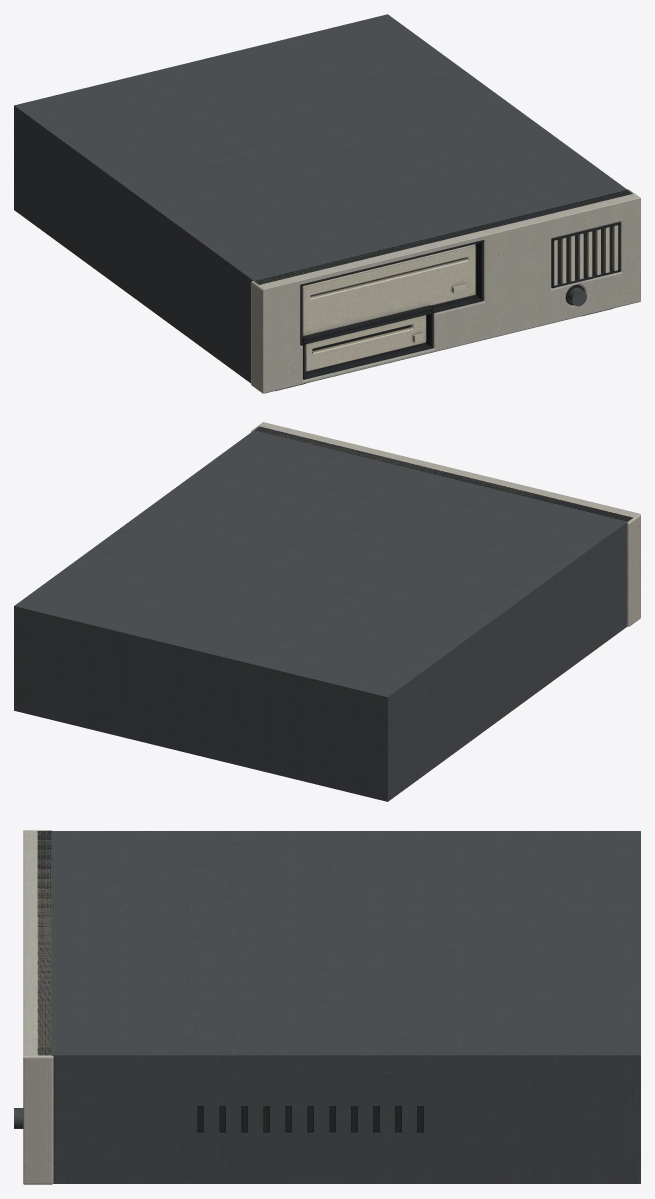
Rendered from pizzabox-e.glb.
3 views of the same model, one above another, from view 1: azimuth 30°, elevation 25°; view 2: azimuth 150°, elevation 25°; view 3: azimuth 270°, elevation 25° (orthographic). The views are drawn at different scales.
Visible parts, largest first — view 1: case-baked; view 2: case-baked; view 3: case-baked.
Boxes of the visible parts, x1=… form: case-baked: x1=14, y1=14, x2=640, y2=393; case-baked: x1=14, y1=422, x2=640, y2=801; case-baked: x1=14, y1=830, x2=640, y2=1184.
Bounding box in the file's own units: 0.318 × 0.09 × 0.371.
Materials: 1 (1 with a texture image).
